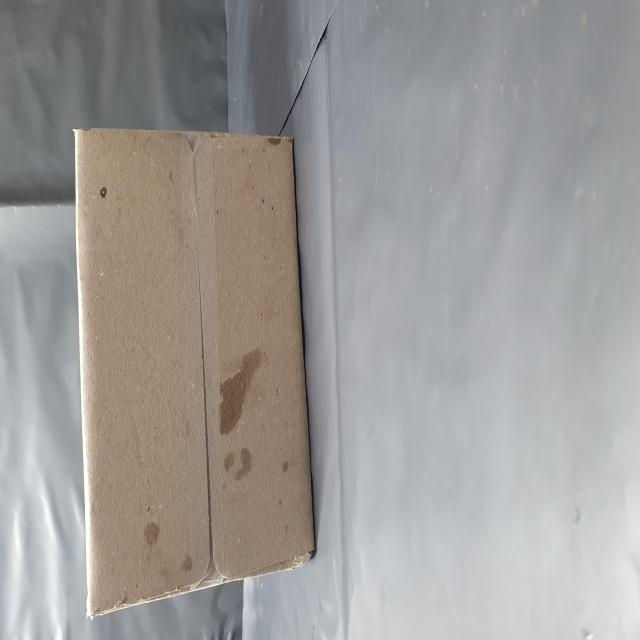wet: (90, 378, 170, 485)
